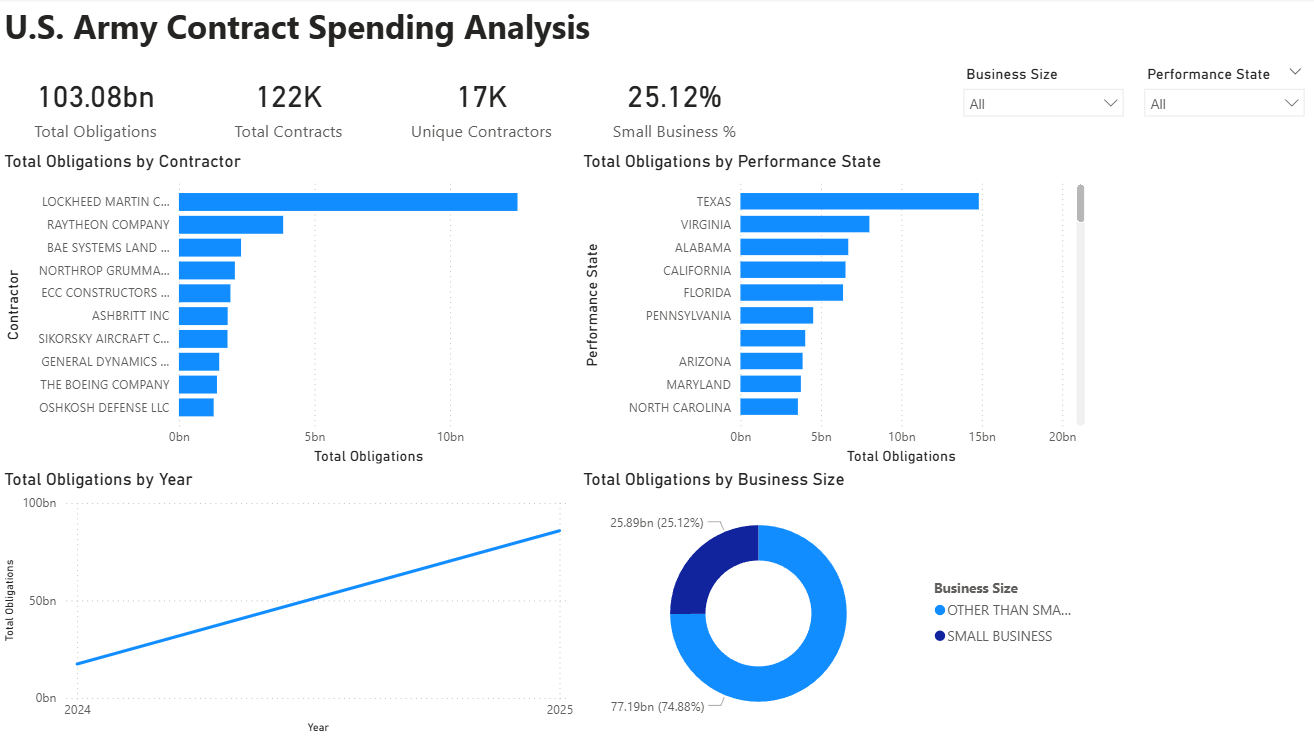

What the dashboard file says about the page in this screenshot:
{"tool":"powerbi","page":{"name":"Contract Overview","canvas":[1280,720],"ordinal":0},"visuals":[{"type":"textbox","box":[0,0,630.3,60.3],"z":0},{"type":"card","fields":{"Values":["Contracts.Total Obligations"]},"box":[0,60.3,187.7,88.5],"z":1000},{"type":"card","fields":{"Values":["Contracts.Total Contracts"]},"box":[187.7,60.3,187.7,88.5],"z":2000},{"type":"card","fields":{"Values":["Contracts.Unique Contractors"]},"box":[375.4,60.3,187.7,88.5],"z":3000},{"type":"card","fields":{"Values":["Contracts.Small Business %"]},"box":[563.2,60.3,187.7,88.5],"z":4000},{"type":"clusteredBarChart","fields":{"Category":["Contracts.Contractor"],"Y":["Contracts.Total Obligations"]},"box":[0,148.8,563.2,309.3],"z":5000},{"type":"clusteredBarChart","fields":{"Category":["Contracts.Performance State"],"Y":["Contracts.Total Obligations"]},"box":[563.2,148.8,498,309.3],"z":6000},{"type":"lineChart","fields":{"Category":["Contracts.Date.Variation.Date Hierarchy.Year","Contracts.Date.Variation.Date Hierarchy.Quarter","Contracts.Date.Variation.Date Hierarchy.Month","Contracts.Date.Variation.Date Hierarchy.Day"],"Y":["Contracts.Total Obligations"]},"box":[0,458.1,563.2,261.6],"z":7000},{"type":"slicer","fields":{"Values":["Contracts.Performance State"]},"box":[1104,60.3,176,72.9],"z":8000},{"type":"slicer","fields":{"Values":["Contracts.Business Size"]},"box":[927.9,60.3,176,72.9],"z":9000},{"type":"donutChart","fields":{"Category":["Contracts.Business Size"],"Y":["Contracts.Total Obligations"]},"box":[563,458,498,262],"z":10000}]}

Visuals, with their boxes in screenshot pixels (x1, y1, x2, y2), scaled from the page's 1280x720 canvas onto the 1314x736 screenshot:
textbox: bbox(0, 0, 647, 62)
card - Contracts.Total Obligations: bbox(0, 62, 193, 152)
card - Contracts.Total Contracts: bbox(193, 62, 385, 152)
card - Contracts.Unique Contractors: bbox(385, 62, 578, 152)
card - Contracts.Small Business %: bbox(578, 62, 771, 152)
clusteredBarChart - Contracts.Contractor x Contracts.Total Obligations: bbox(0, 152, 578, 468)
clusteredBarChart - Contracts.Performance State x Contracts.Total Obligations: bbox(578, 152, 1089, 468)
lineChart - Contracts.Date.Variation.Date Hierarchy.Year x Contracts.Date.Variation.Date Hierarchy.Quarter: bbox(0, 468, 578, 735)
slicer - Contracts.Performance State: bbox(1133, 62, 1313, 136)
slicer - Contracts.Business Size: bbox(953, 62, 1133, 136)
donutChart - Contracts.Business Size x Contracts.Total Obligations: bbox(578, 468, 1089, 735)
